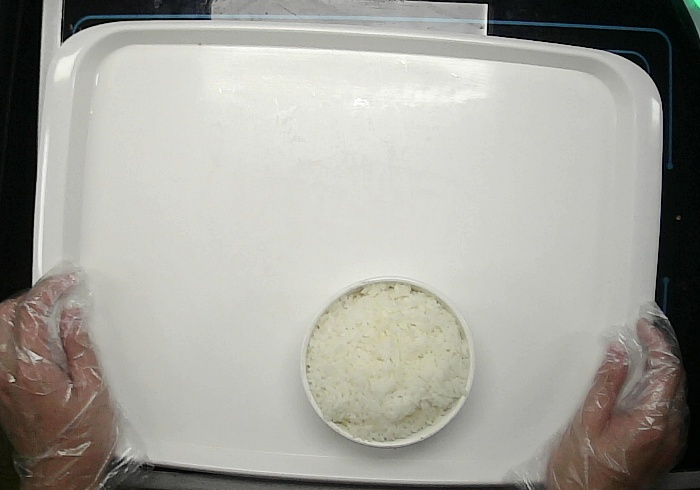HZYJPL-Fan_Wan: (299, 273, 477, 448)
